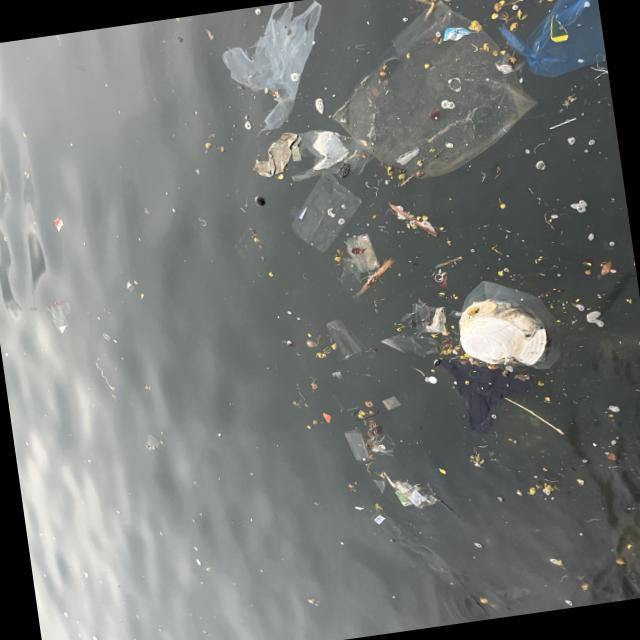foam: (461, 306, 552, 372)
plastic bag: (335, 5, 535, 180), (218, 1, 327, 125), (495, 5, 610, 72), (283, 120, 372, 181)
